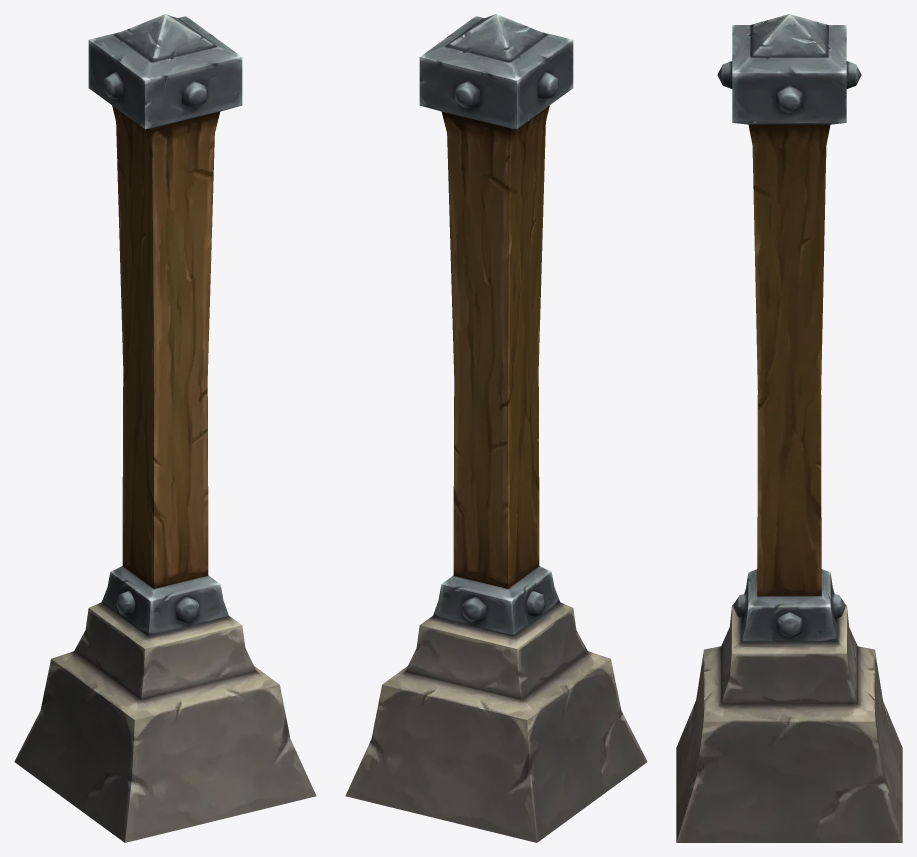
The picture shows the model from 3 angles, left to right: view 1: azimuth 30°, elevation 25°; view 2: azimuth 150°, elevation 25°; view 3: azimuth 270°, elevation 25°; orthographic projection. The views are drawn at different scales.
Size of the model in its own units: 1.49 by 5.68 by 1.49.
1 material, 1 textured.
